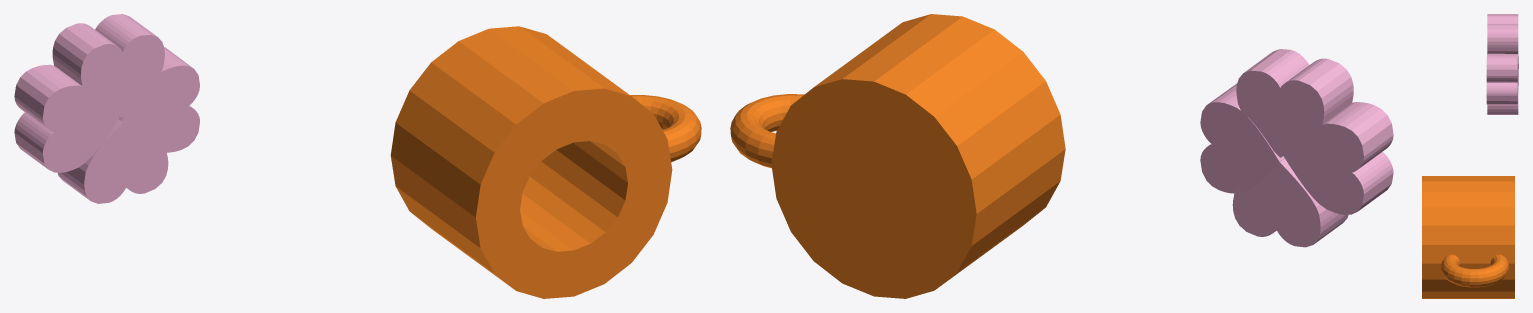
File: tinker.obj
3 views of the same model, side by side, from view 1: azimuth 30°, elevation 25°; view 2: azimuth 150°, elevation 25°; view 3: azimuth 270°, elevation 25° (orthographic). The views are drawn at different scales.
Visible parts, largest first — view 1: group_0_16089887, group_0_15708628; view 2: group_0_16089887, group_0_15708628; view 3: group_0_16089887, group_0_15708628.
Part boxes in pixels (box(x1,y1,x2,y2)): group_0_16089887: box(390, 26, 701, 298); group_0_15708628: box(14, 14, 199, 203); group_0_16089887: box(730, 14, 1065, 298); group_0_15708628: box(1200, 49, 1393, 247); group_0_16089887: box(1422, 176, 1514, 298); group_0_15708628: box(1486, 14, 1518, 114).
Size of the model in its own units: 130 by 60 by 31.23.
